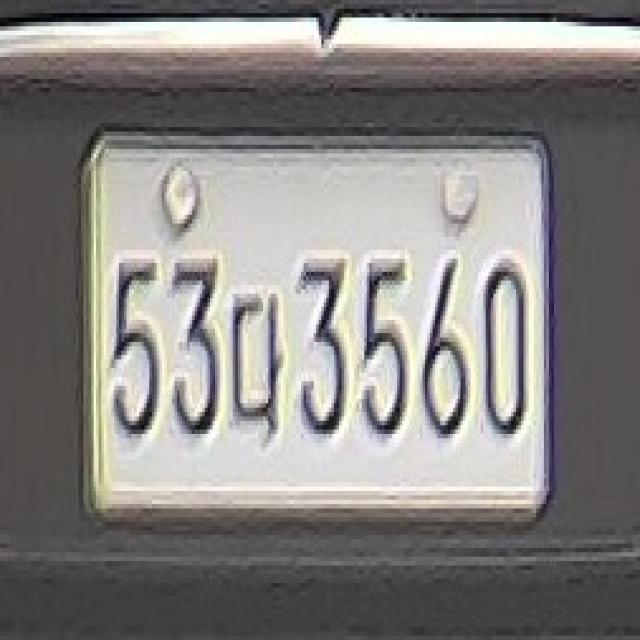0: (478, 254, 531, 456)
3: (283, 232, 354, 456), (167, 250, 233, 460)
5: (114, 245, 167, 443), (362, 254, 412, 452)
6: (425, 237, 476, 460)
da: (223, 276, 291, 443)
license_plate: (73, 127, 559, 531)
